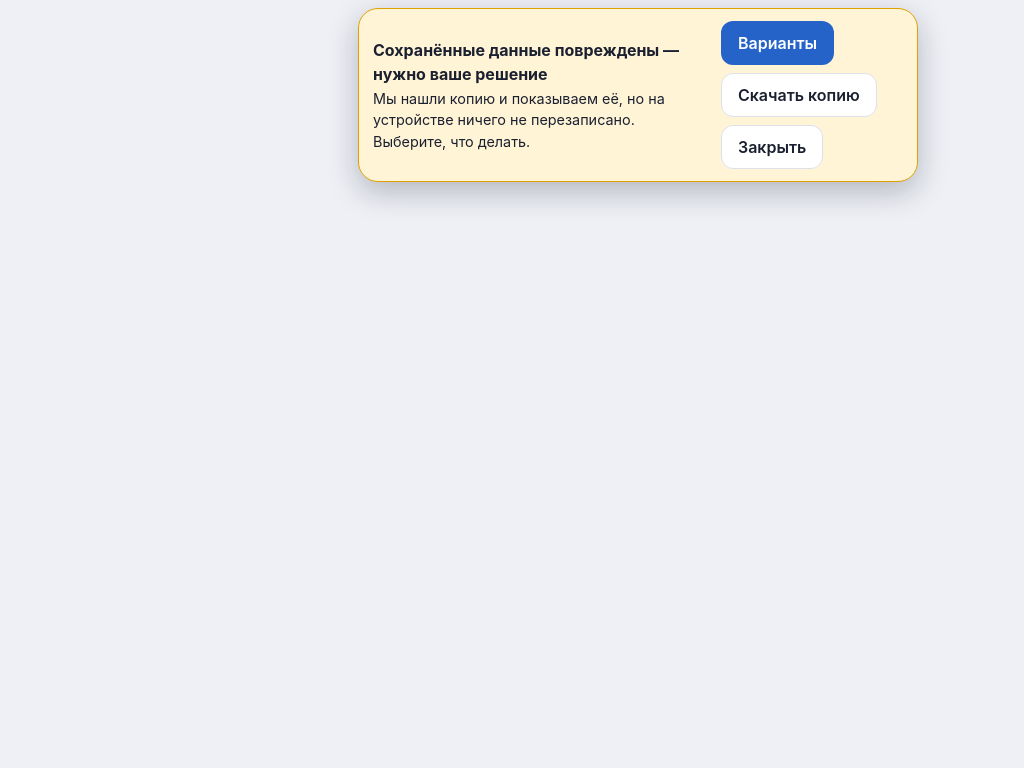
Test: recovery screen: an unreadable record with a usable legacy copy (recovery-pending) › opening the options gives an accessible dialog that explains the situation and says nothing will be deleted
This screenshot has width=1024, height=768.
Click the button "Варианты": (778, 43) [721,21,834,65]
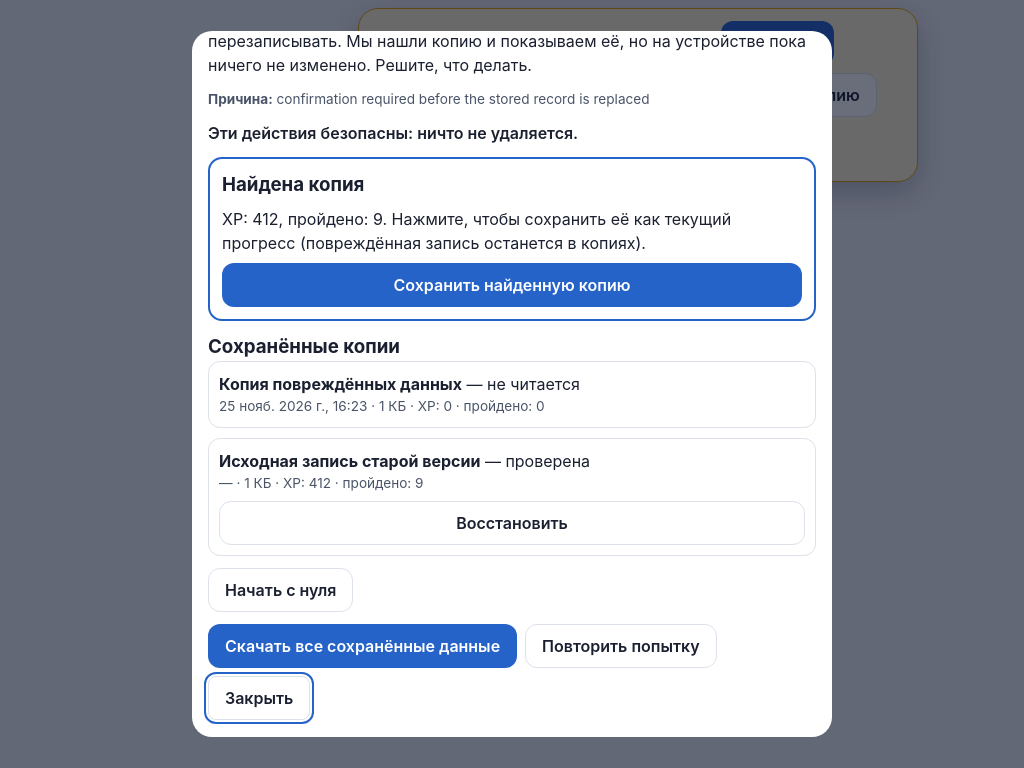
expect the text "Сохранённые данные повреждены, и приложение не стало ничего перезаписывать. Мы нашли копию и показываем её, но на устрой" is shown: met, box [208,31,806,75]
expect the text "Эти действия безопасны: ничто не удаляется." is shown: met, box [208,123,578,143]
expect the button "Закрыть" is shown: met, box [208,676,310,720]
